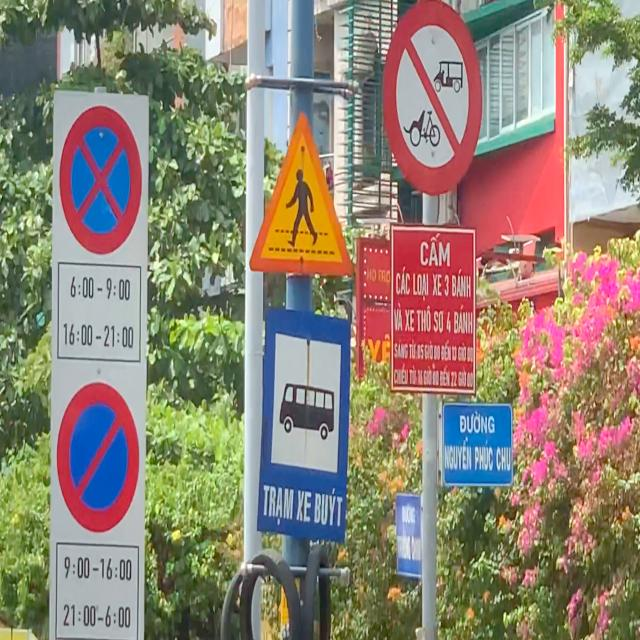Cam do: (57, 378, 135, 534)
Cam dung va do: (55, 98, 145, 261)
Nguoi di bo cat ngang: (244, 104, 366, 290)
